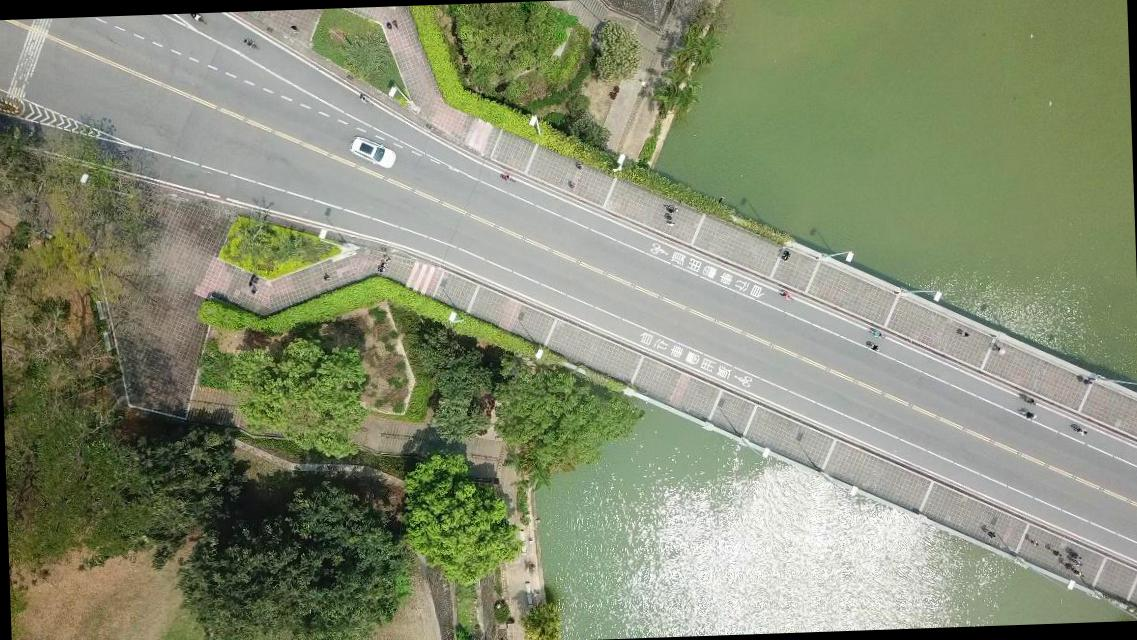vehicle: (348, 135, 396, 170)
